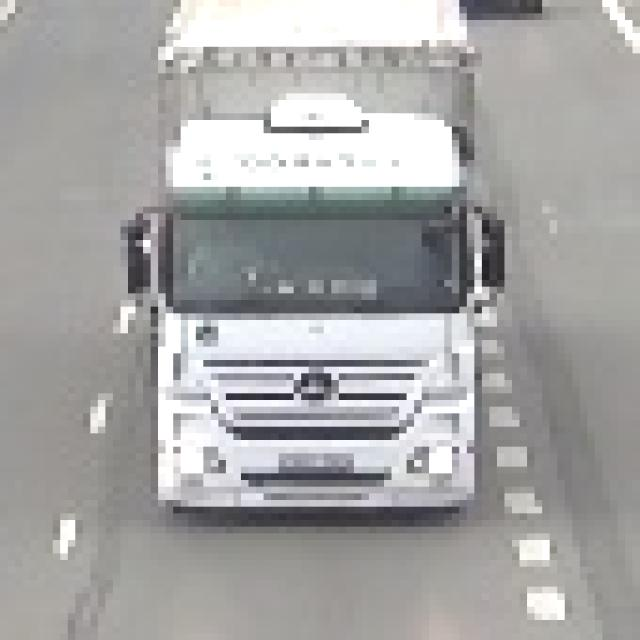TRUCK: (134, 0, 495, 523)
